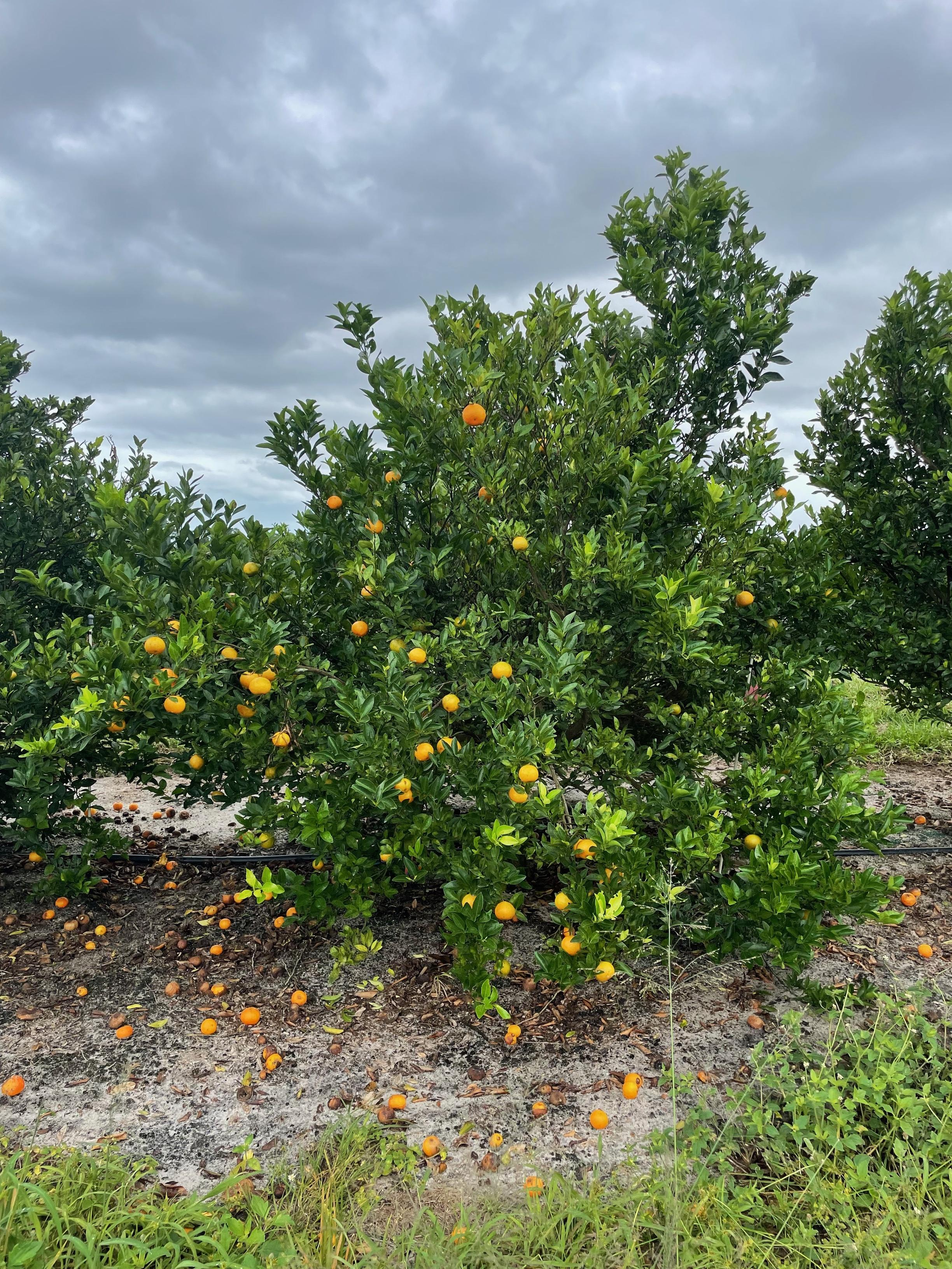fruit_on_ground: (459, 399, 489, 428), (151, 666, 180, 690), (600, 862, 627, 887), (558, 933, 583, 959), (357, 579, 383, 603), (492, 899, 518, 923), (592, 958, 616, 983), (436, 735, 463, 757), (575, 838, 600, 861), (162, 692, 187, 715), (142, 633, 166, 656), (110, 693, 135, 715), (248, 675, 272, 697), (475, 483, 499, 505), (733, 587, 757, 609), (490, 659, 514, 681), (532, 435, 554, 458), (362, 514, 385, 536), (517, 763, 540, 785), (412, 741, 435, 763), (269, 729, 293, 750), (742, 831, 765, 852), (163, 616, 185, 637), (349, 617, 371, 638), (440, 692, 462, 713), (408, 616, 431, 636), (105, 715, 128, 735), (235, 699, 258, 719), (406, 645, 429, 665), (238, 669, 259, 690), (460, 891, 481, 912), (553, 891, 574, 912), (492, 957, 512, 979), (508, 784, 530, 804), (256, 830, 276, 851), (510, 533, 530, 554), (324, 493, 345, 513), (222, 591, 242, 611), (568, 837, 588, 857), (240, 560, 261, 579), (387, 636, 408, 655), (769, 484, 789, 503), (383, 467, 403, 486), (395, 787, 416, 805), (219, 644, 240, 662), (392, 776, 413, 794), (762, 616, 781, 635), (187, 753, 206, 772), (68, 668, 87, 686), (270, 641, 289, 659), (559, 923, 579, 940), (262, 762, 280, 780), (480, 531, 499, 548), (378, 848, 396, 865), (260, 666, 278, 683), (3, 667, 19, 685), (451, 614, 469, 630), (26, 848, 45, 863), (666, 702, 683, 718), (210, 788, 226, 804), (310, 857, 326, 872), (81, 805, 97, 818), (260, 888, 274, 902)
fruit_on_tree: (620, 1071, 645, 1098), (1, 1073, 25, 1098), (522, 1174, 546, 1197), (421, 1134, 444, 1157), (587, 1108, 609, 1130), (477, 1152, 500, 1173), (238, 1005, 261, 1026), (376, 1104, 396, 1124), (388, 1091, 408, 1110), (745, 1012, 766, 1030), (265, 1051, 284, 1070), (114, 1023, 135, 1040), (530, 1099, 549, 1117), (290, 988, 309, 1006), (466, 1064, 486, 1081), (487, 1131, 505, 1149), (107, 1012, 127, 1028), (899, 890, 917, 907), (916, 941, 934, 958), (200, 1017, 217, 1035), (520, 977, 539, 993), (236, 827, 255, 843), (548, 1090, 567, 1106), (163, 979, 180, 996), (260, 1044, 278, 1059), (506, 1023, 523, 1038), (53, 895, 71, 909), (210, 980, 226, 995), (197, 979, 211, 996), (327, 1042, 342, 1056), (503, 1032, 518, 1046), (208, 942, 223, 956), (63, 918, 79, 931), (908, 885, 922, 899), (2, 912, 16, 926), (284, 904, 298, 918), (254, 1032, 269, 1045), (272, 915, 287, 928), (203, 903, 218, 916), (75, 984, 90, 997), (175, 937, 189, 950), (218, 917, 232, 930), (221, 874, 236, 886), (233, 890, 247, 902), (913, 814, 927, 826), (42, 908, 56, 920), (196, 967, 209, 979), (22, 860, 35, 872), (77, 913, 89, 926), (188, 954, 201, 966), (84, 938, 97, 950), (94, 923, 107, 935), (220, 891, 233, 903), (164, 879, 178, 890), (112, 800, 124, 812), (97, 876, 110, 887), (164, 860, 177, 871), (128, 801, 140, 812), (164, 807, 176, 818), (178, 808, 190, 819), (146, 838, 159, 848), (152, 809, 163, 820), (133, 874, 145, 884), (142, 829, 153, 838), (131, 824, 142, 833)
